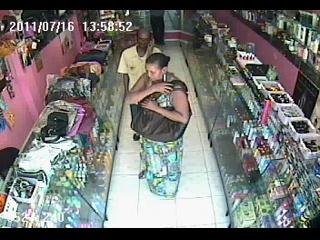Normal: (126, 53, 192, 196), (116, 28, 162, 92), (149, 10, 166, 46), (75, 50, 109, 66)
